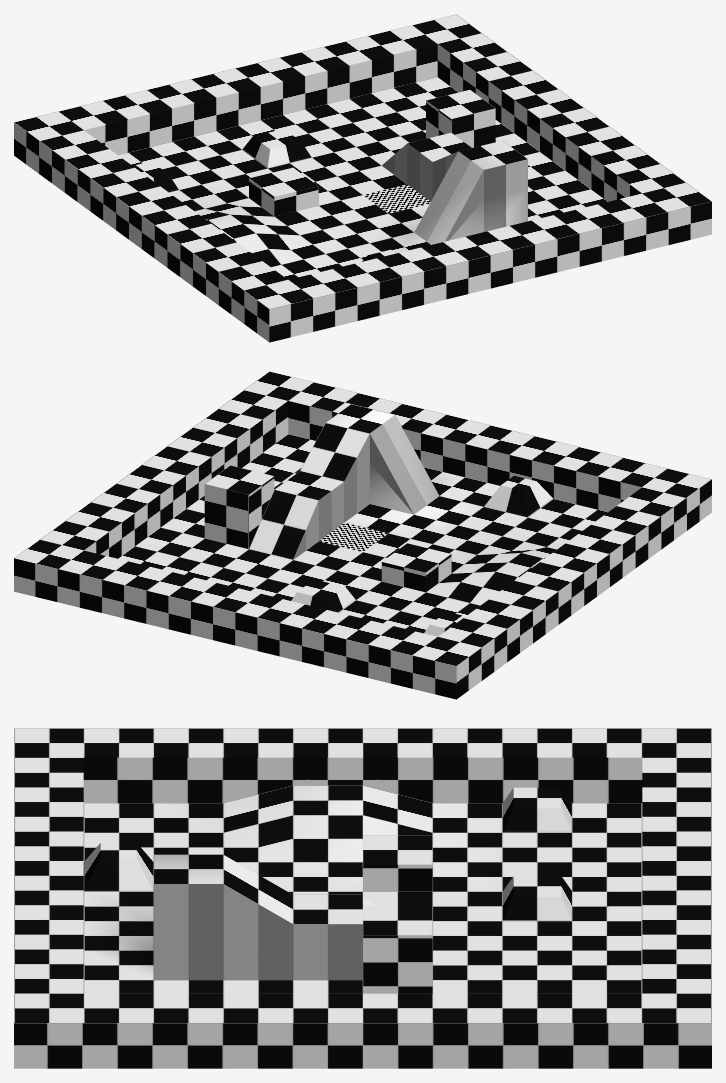
The model's file is escenarioSimple_CmsFbx.fbx.
The picture shows the model from 3 angles, top to bottom: view 1: azimuth 30°, elevation 25°; view 2: azimuth 150°, elevation 25°; view 3: azimuth 270°, elevation 25°; orthographic projection. The views are drawn at different scales.
Visible parts, largest first — view 1: pPlane1; view 2: pPlane1; view 3: pPlane1.
Boxes of the visible parts, bbox=[...] form: pPlane1: bbox=[14, 14, 711, 342]; pPlane1: bbox=[14, 371, 711, 699]; pPlane1: bbox=[14, 728, 711, 1068].
Size of the model in its own units: 1500 by 228 by 1500.
